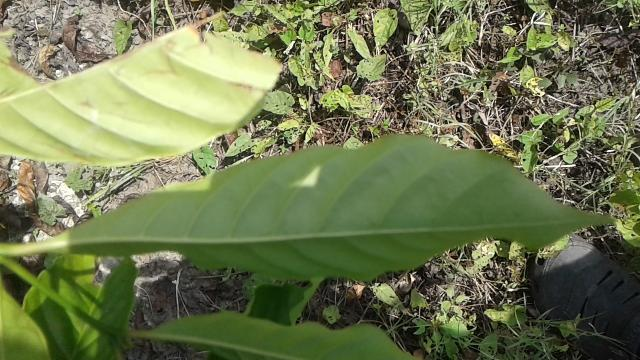healthy: (52, 132, 610, 280)
